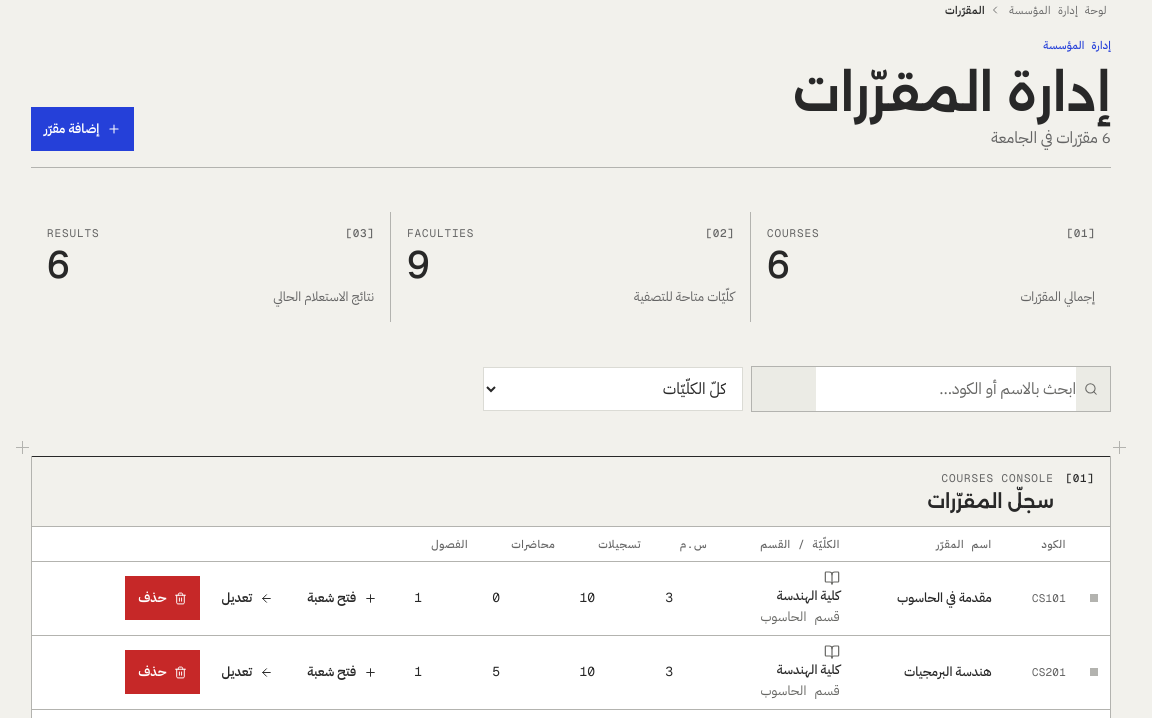
Test: AdminCoursesPage — CRUD wiring (r153i) › edits via PATCH /courses/:id after the department is re-picked by id
The width and height of the screenshot is (1152, 718).
Later steps or results of the test are not shown.
What coordinates should you click on to do the following:
click the button with aria-label "تعديل مقدمة في الحاسوب"
I would click on:
 (247, 598)
Its box is [208,576,286,620].
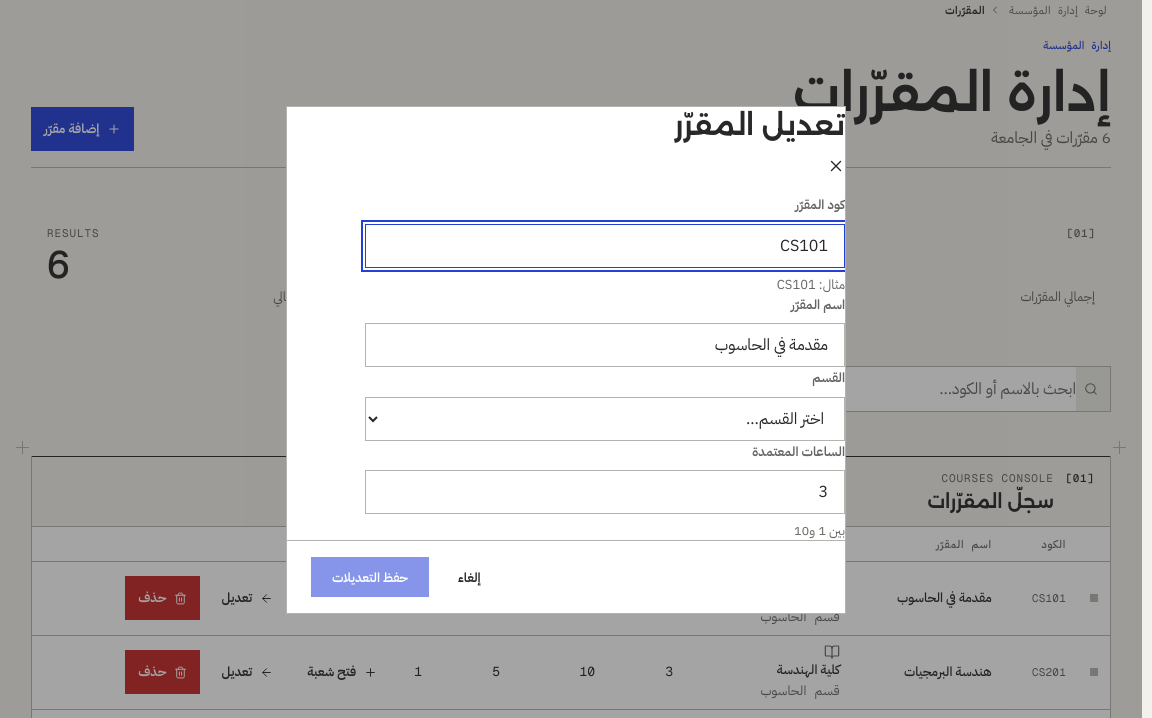
Result: the heading "تعديل المقرّر" is shown at [674,107,845,142]
